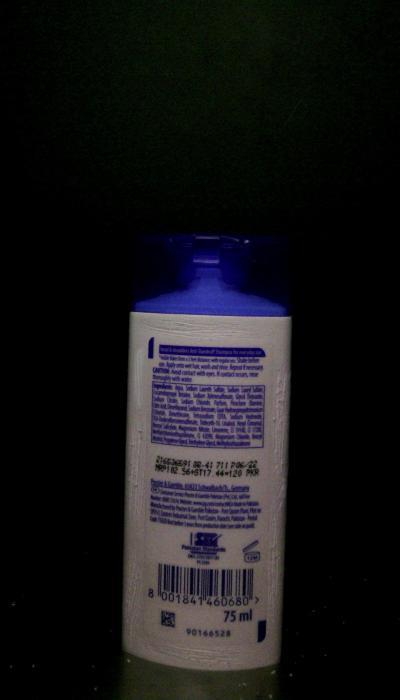scuff_unacc: (127, 313, 276, 338), (148, 637, 255, 665), (265, 486, 284, 630), (126, 417, 144, 537), (274, 367, 289, 479), (125, 551, 142, 647), (129, 345, 144, 411)
